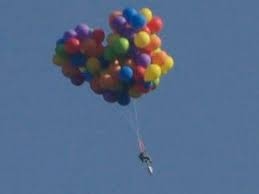Balloon: (133, 31, 150, 48), (128, 12, 145, 27), (115, 36, 130, 53), (87, 57, 101, 72), (148, 17, 162, 32), (64, 38, 78, 52), (147, 64, 161, 78), (119, 66, 132, 80), (135, 53, 150, 65), (94, 29, 105, 40)
